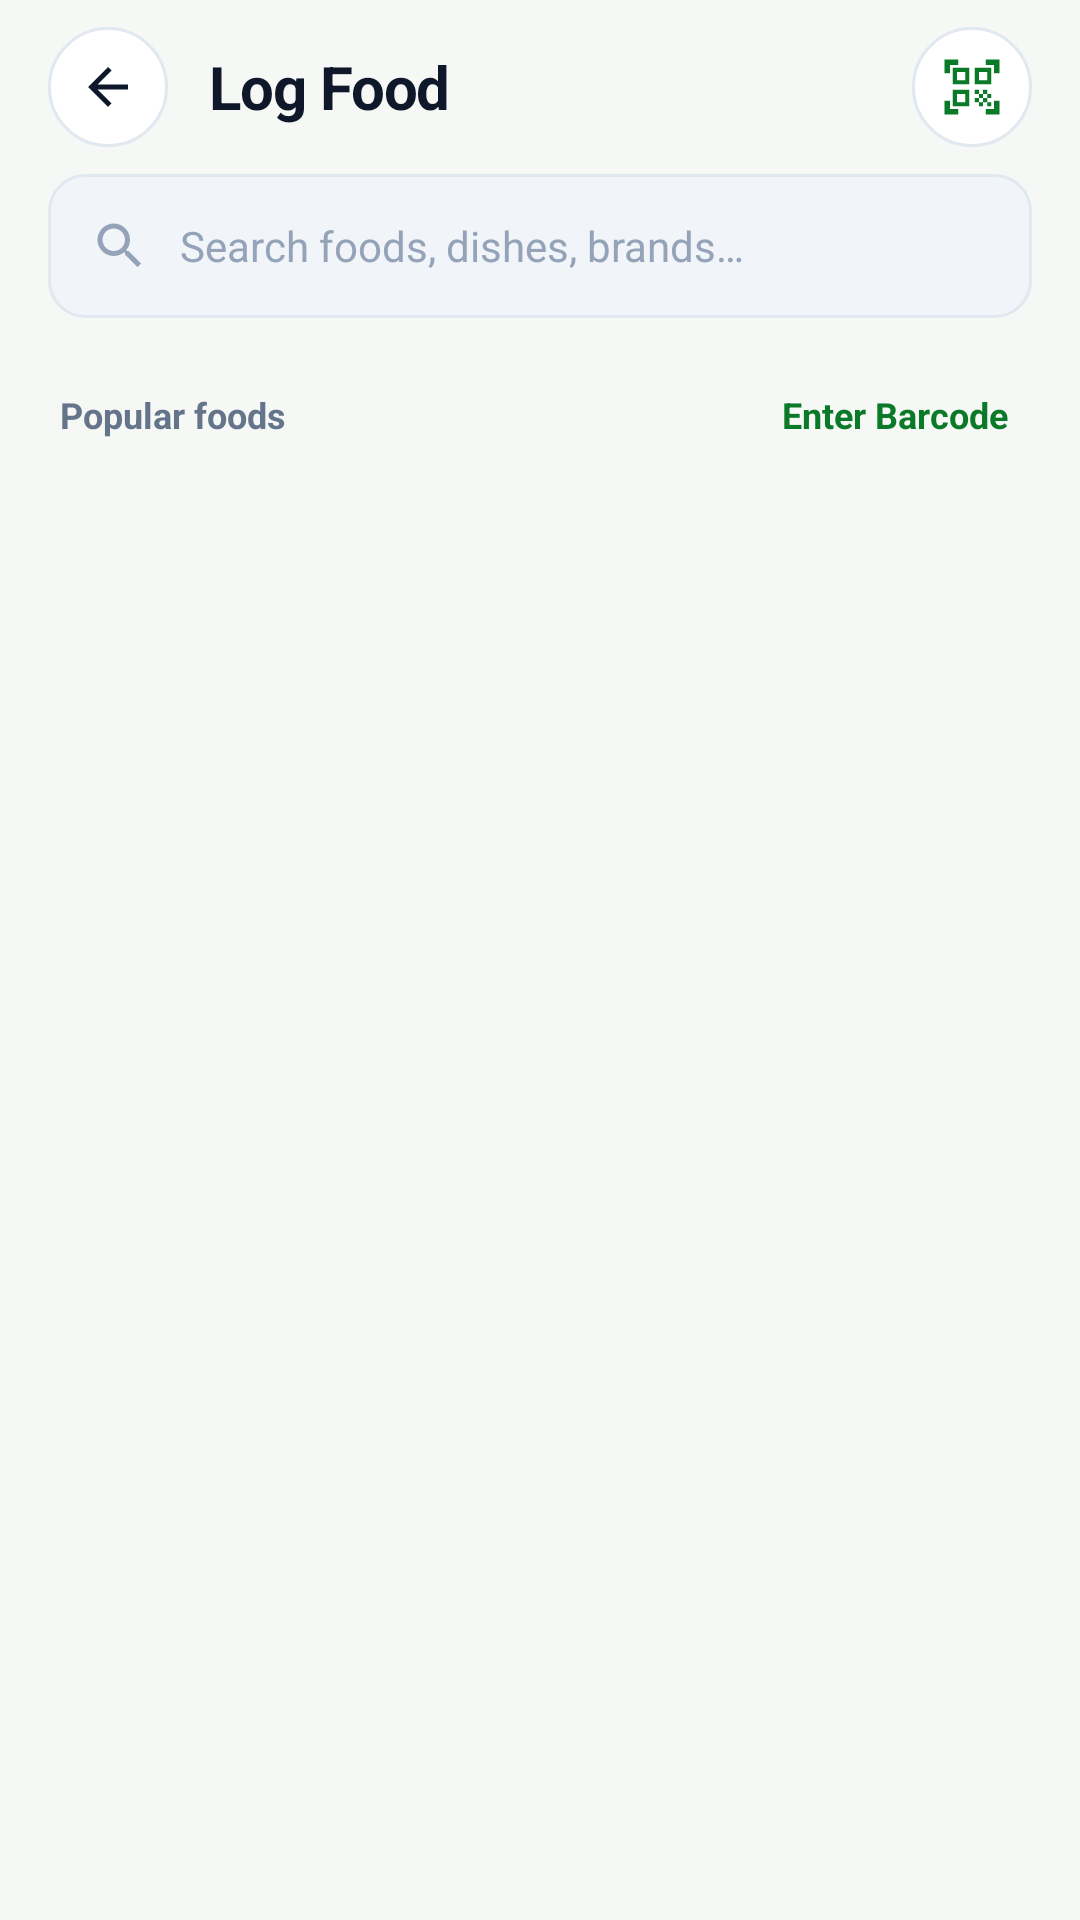

Locate icon controls on the screen. Image size 1080px×1920px, boxes as Rect(x1, y1, x2, y2).
Back: Rect(48, 27, 168, 147)
Scan barcode: Rect(912, 27, 1032, 147)
